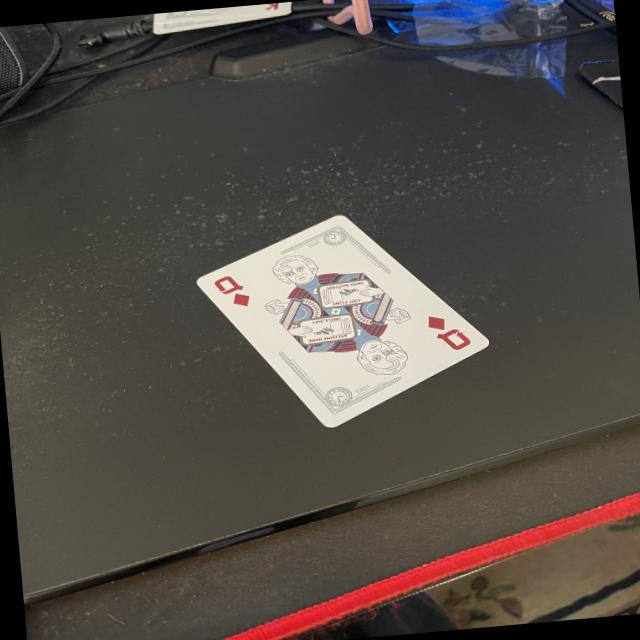Queen of diamonds: (197, 216, 488, 425)
